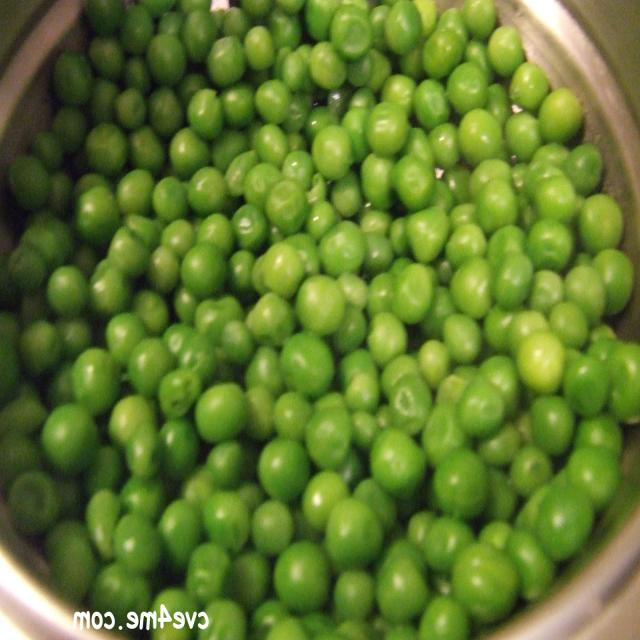Peas: (25, 106, 582, 576), (68, 2, 521, 522)
